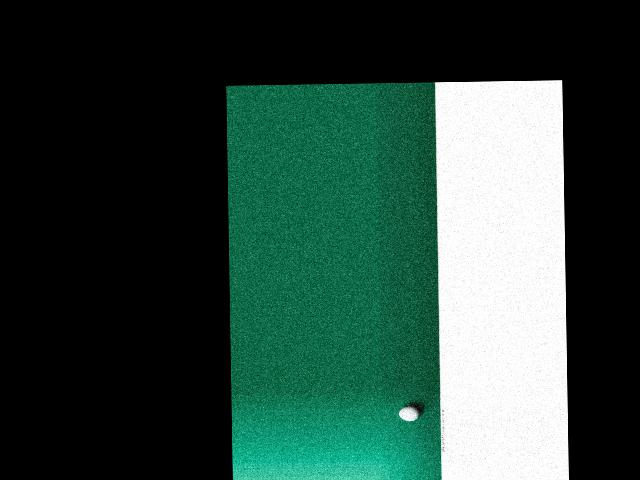egg: (399, 407, 419, 422)
